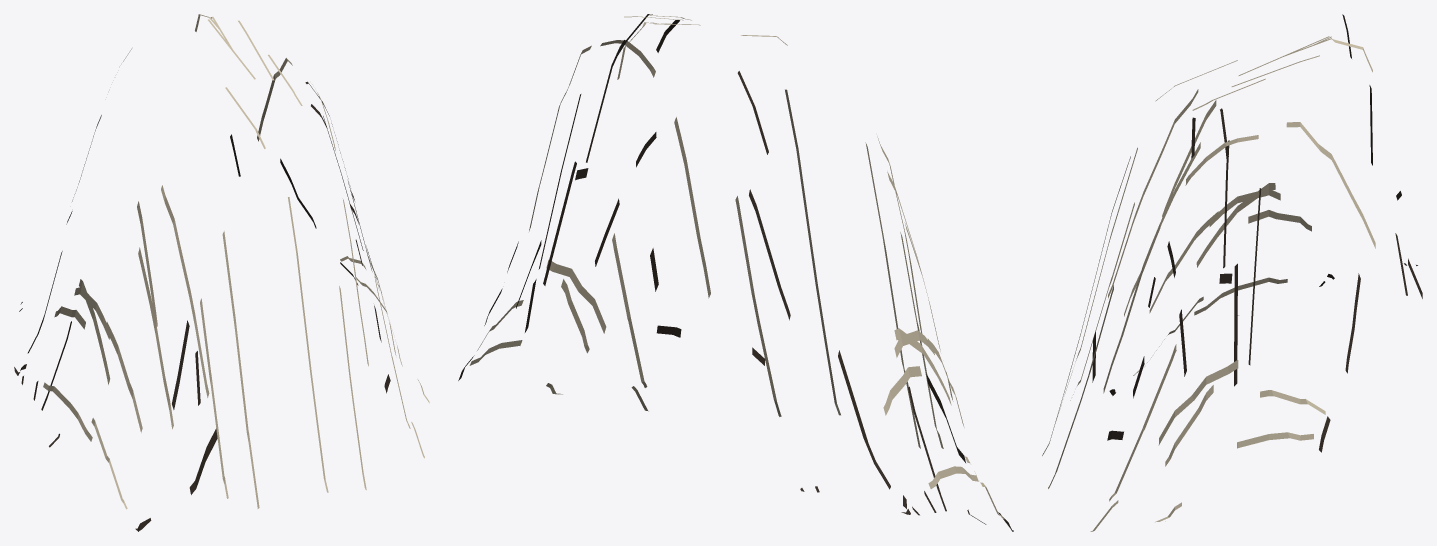
Rendered from dam_eye_fall_spire_west_detail1.glb.
3 renders of one model, left to right at view 1: azimuth 30°, elevation 25°; view 2: azimuth 150°, elevation 25°; view 3: azimuth 270°, elevation 25°, orthographic. The views are drawn at different scales.
Visible parts, largest first — view 1: dam_eye_fall_spire_west_detail1; view 2: dam_eye_fall_spire_west_detail1; view 3: dam_eye_fall_spire_west_detail1.
Boxes of the visible parts, bbox=[...] form: dam_eye_fall_spire_west_detail1: bbox=[14, 14, 429, 531]; dam_eye_fall_spire_west_detail1: bbox=[458, 14, 1013, 531]; dam_eye_fall_spire_west_detail1: bbox=[1042, 14, 1422, 531].
Bounding box in the file's own units: 28.78 × 31.76 × 24.25.
